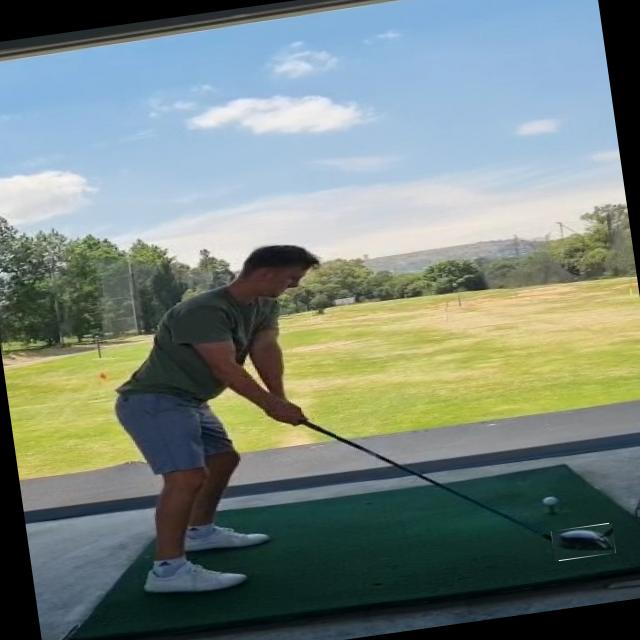club head: (550, 524, 616, 562)
